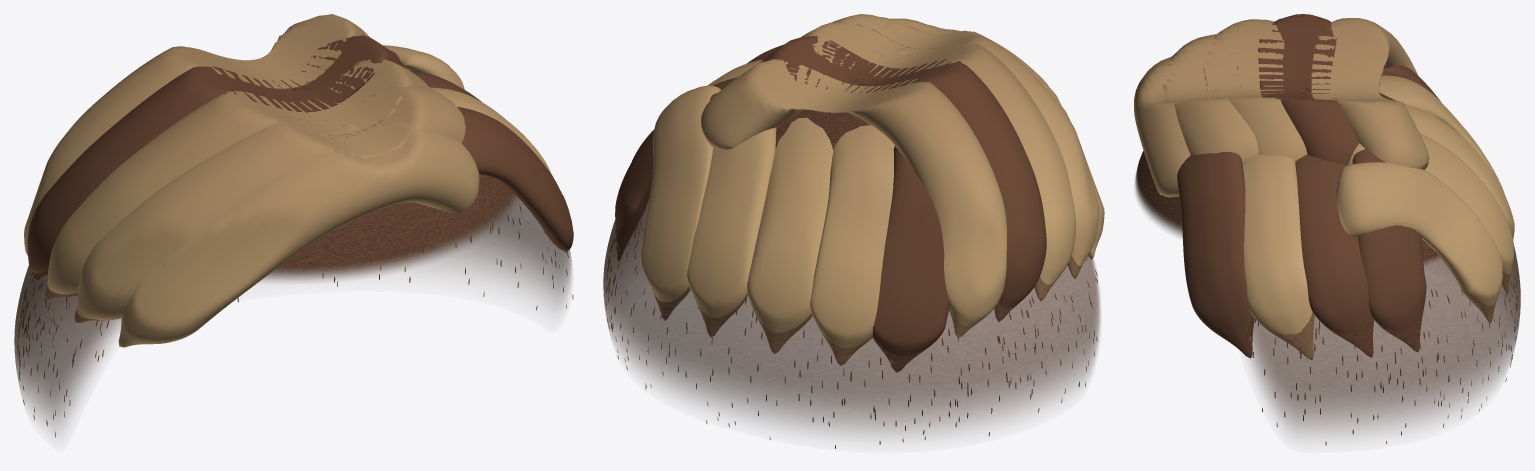
File: Highlights-9f04780c05b2251-hair.glb
3 renders of one model, left to right at view 1: azimuth 30°, elevation 25°; view 2: azimuth 150°, elevation 25°; view 3: azimuth 270°, elevation 25°, orthographic. The views are drawn at different scales.
Visible parts, largest first — view 1: 226 hair / Hair / main251.001, 226 hair / Hair / clipped grain251.001, 226 hair / Hair / close cut strokes251.001; view 2: 226 hair / Hair / main251.001, 226 hair / Hair / clipped grain251.001, 226 hair / Hair / close cut strokes251.001; view 3: 226 hair / Hair / main251.001, 226 hair / Hair / clipped grain251.001, 226 hair / Hair / close cut strokes251.001.
Boxes of the visible parts, left/top/right/bottom form: 226 hair / Hair / main251.001: left=24, top=14, right=573, bottom=347; 226 hair / Hair / clipped grain251.001: left=14, top=84, right=571, bottom=432; 226 hair / Hair / close cut strokes251.001: left=17, top=202, right=573, bottom=436; 226 hair / Hair / main251.001: left=615, top=14, right=1104, bottom=372; 226 hair / Hair / clipped grain251.001: left=603, top=78, right=1100, bottom=437; 226 hair / Hair / close cut strokes251.001: left=606, top=219, right=1097, bottom=448; 226 hair / Hair / main251.001: left=1134, top=14, right=1514, bottom=359; 226 hair / Hair / clipped grain251.001: left=1135, top=88, right=1520, bottom=437; 226 hair / Hair / close cut strokes251.001: left=1242, top=274, right=1517, bottom=445.
Bounding box in the file's own units: 0.9812 × 0.648 × 0.752.
Materials: 4 (1 with a texture image).
